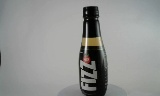appyfizz: (72, 6, 102, 95)
